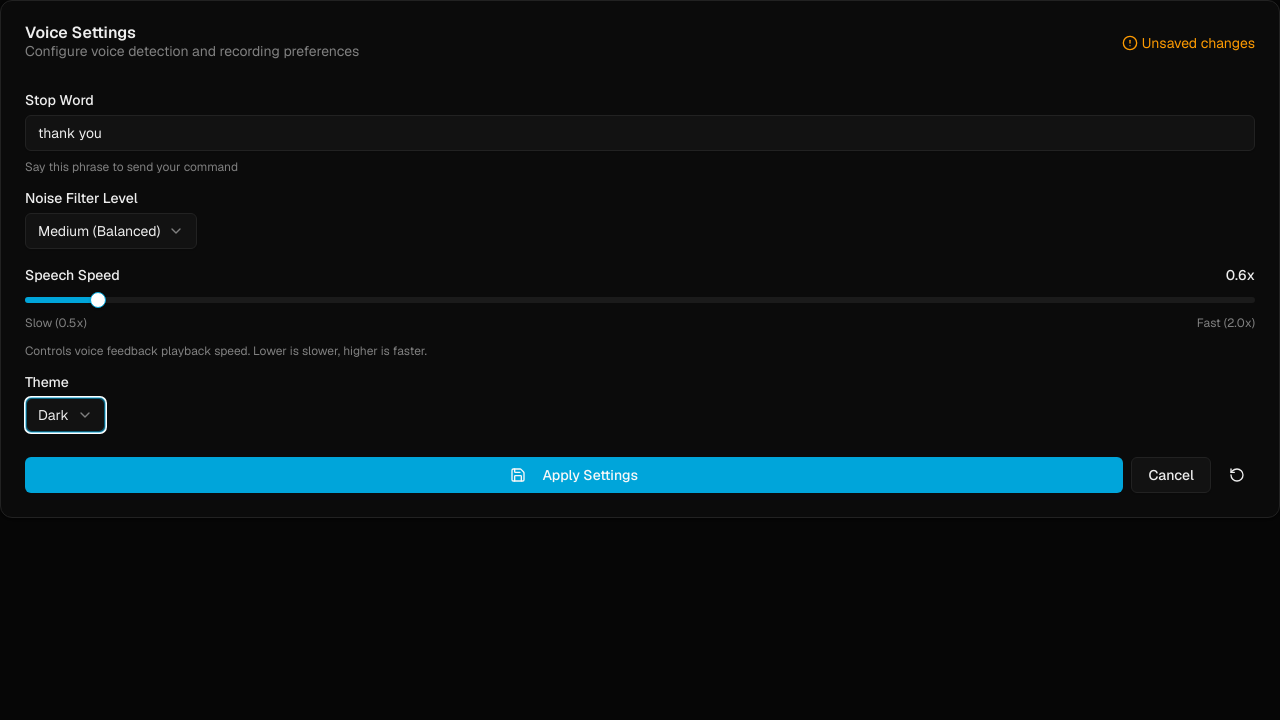
it: SettingsPanel › apply button › should show success message after apply
The image size is (1280, 720).
Earlier steps of the test are not shown.
Click the button "Apply Settings".
click(574, 475)  # box x1=25 y1=457 x2=1123 y2=493
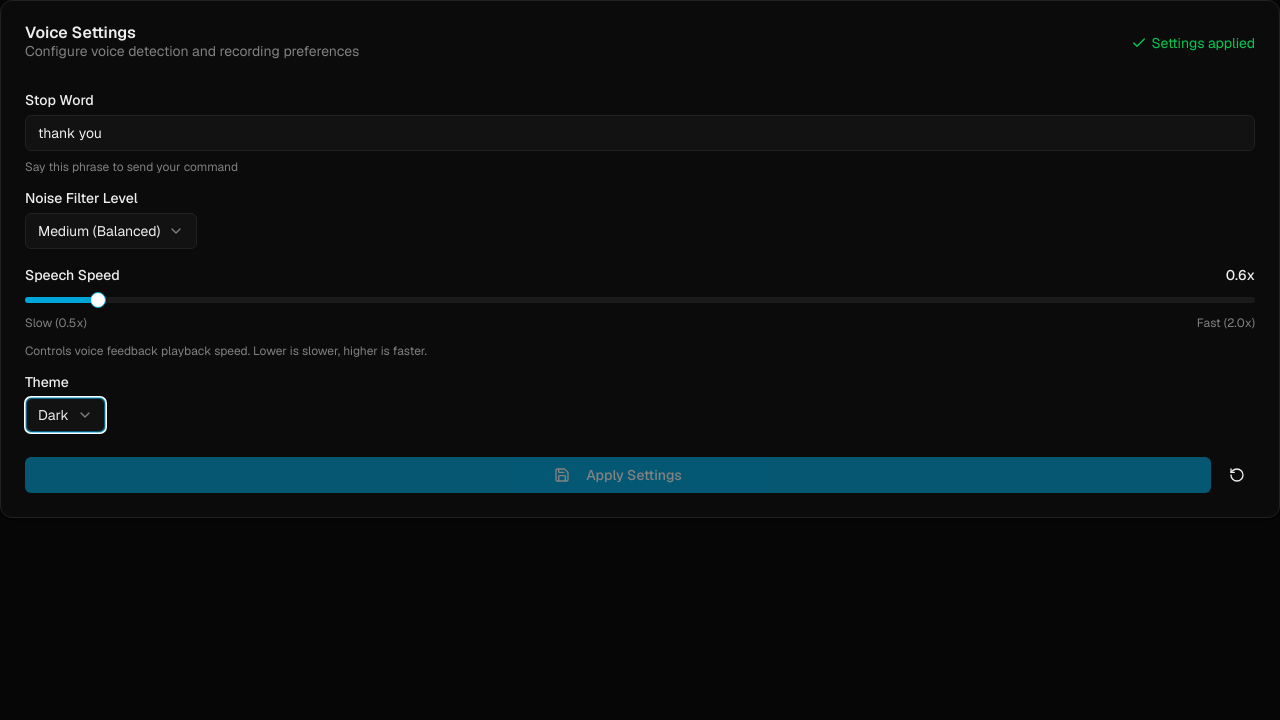
Result: the text "Settings applied" is shown at x1=1152 y1=33 x2=1255 y2=53
